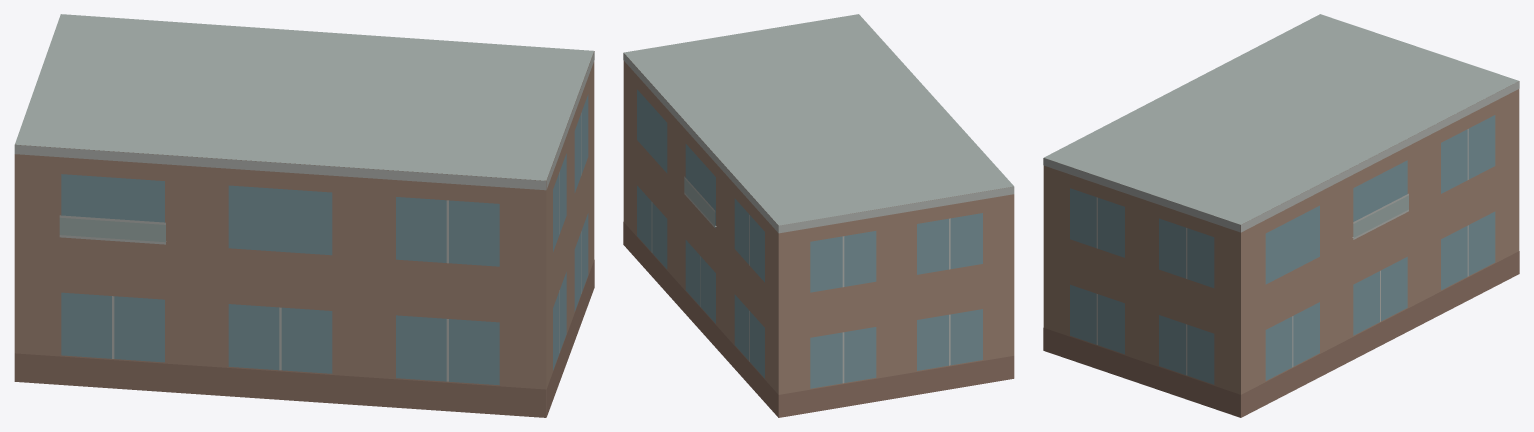
Rendered from survey-upis-32747658.glb.
The picture shows the model from 3 angles, left to right: view 1: azimuth 30°, elevation 25°; view 2: azimuth 150°, elevation 25°; view 3: azimuth 270°, elevation 25°; orthographic projection. The views are drawn at different scales.
Parts seen in each view (by area): view 1: survey-upis-32747658.tmp; view 2: survey-upis-32747658.tmp; view 3: survey-upis-32747658.tmp.
Boxes of the visible parts, x1,y1,x2,y2 form: survey-upis-32747658.tmp: (14, 14, 594, 417); survey-upis-32747658.tmp: (623, 14, 1014, 417); survey-upis-32747658.tmp: (1043, 14, 1519, 417).
Bounding box in the file's own units: 14.31 × 6.1 × 13.64.
